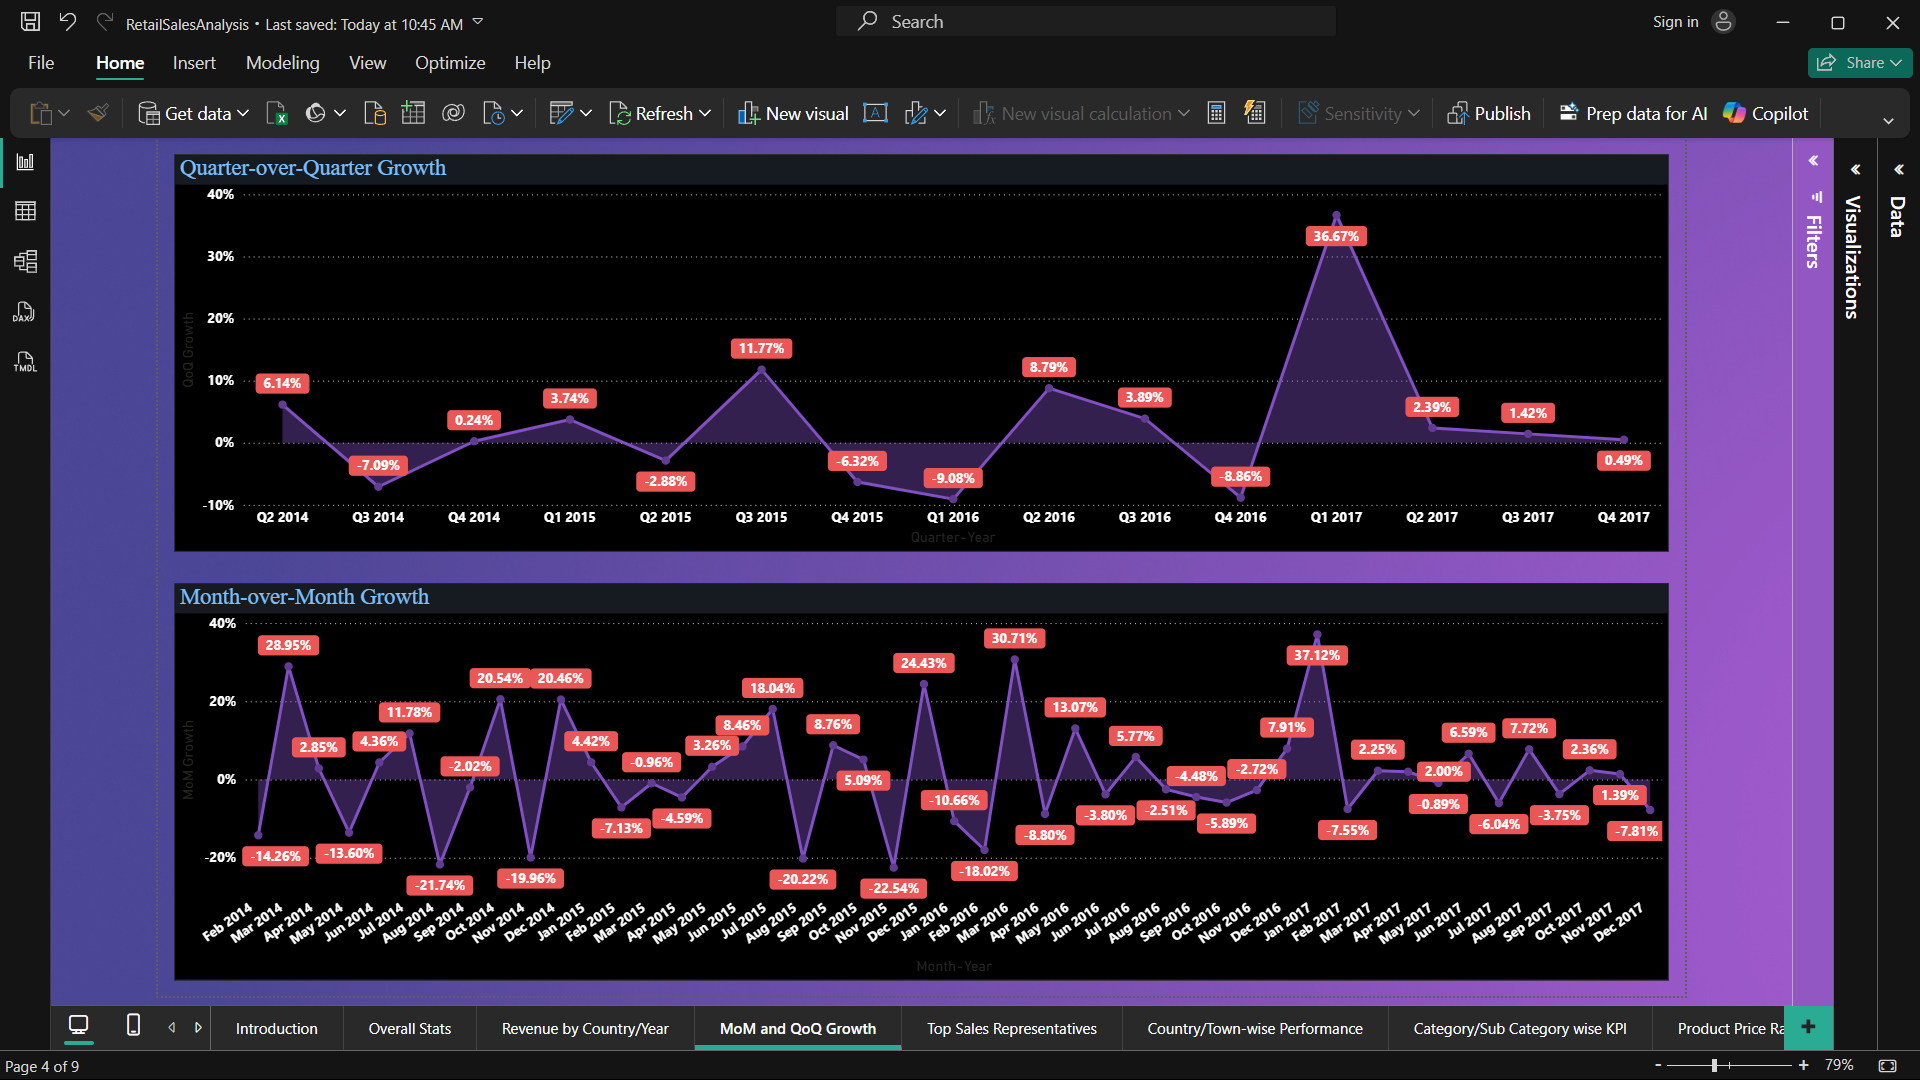

The page's visual inventory and layout, read from the dashboard file:
{"tool":"powerbi","page":{"name":"MoM and QoQ Growth","canvas":[1536,864],"ordinal":3},"visuals":[{"type":"lineChart","title":"Month-over-Month Growth","fields":{"Category":["CalendarMaster.Month-Year"],"Y":["FactSales.MoM Growth"]},"box":[16,448,1504,400],"z":0},{"type":"lineChart","title":"Quarter-over-Quarter Growth","fields":{"Category":["CalendarMaster.Quarter-Year"],"Y":["FactSales.QoQ Growth"]},"box":[16,16,1504,400],"z":1000}]}

Visuals, with their boxes on the page's 1536x864 design canvas (x1, y1, x2, y2). These are canvas units, not pixel positions in the 1920x1080 screenshot, which may show the page scaled, cropped or inside an application window:
"Month-over-Month Growth" lineChart: box=[16, 448, 1520, 848]
"Quarter-over-Quarter Growth" lineChart: box=[16, 16, 1520, 416]
